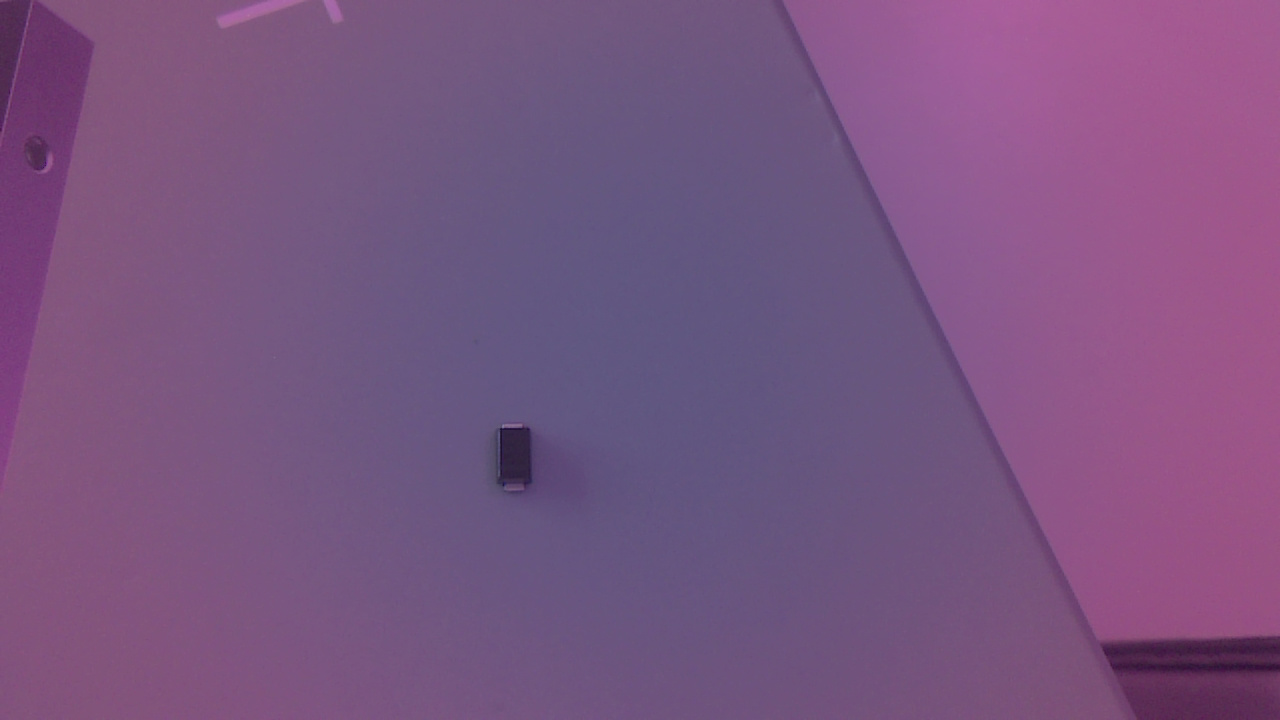Diode: (492, 415, 555, 504)
